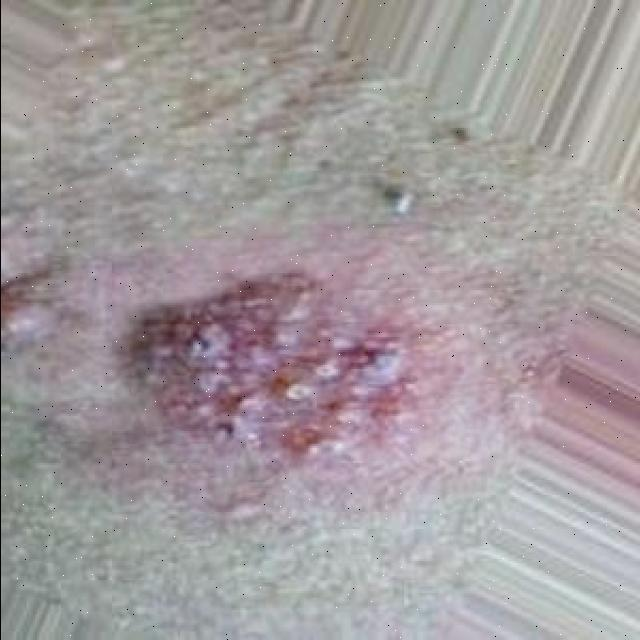Shingles: (126, 268, 404, 457)
